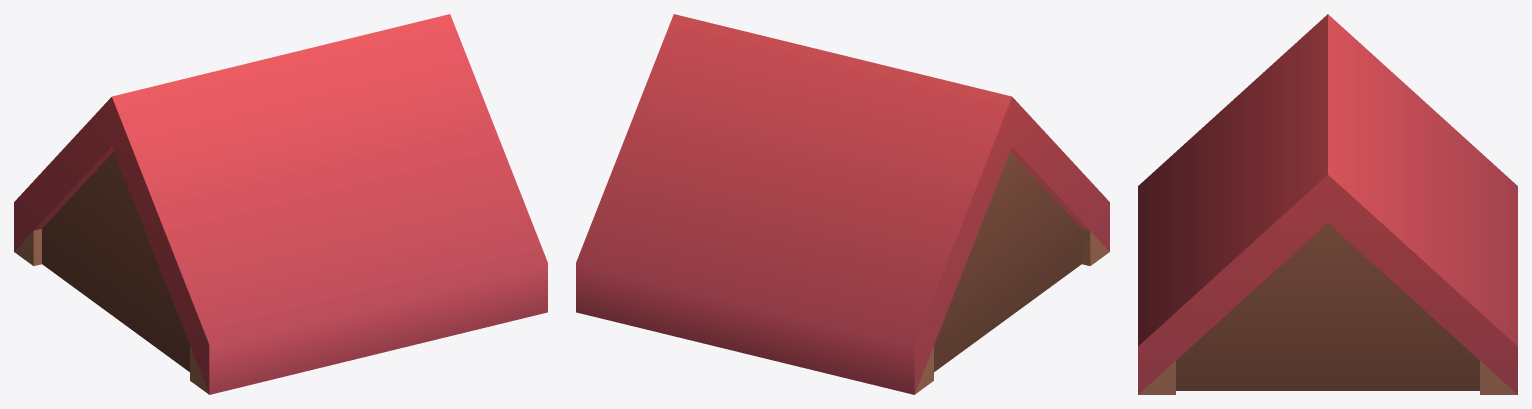
The model's file is roof-high-gable-top.glb.
3 renders of one model, left to right at view 1: azimuth 30°, elevation 25°; view 2: azimuth 150°, elevation 25°; view 3: azimuth 270°, elevation 25°, orthographic. The views are drawn at different scales.
Parts seen in each view (by area): view 1: roof-high-gable-top; view 2: roof-high-gable-top; view 3: roof-high-gable-top.
Boxes of the visible parts, box(x1,y1,x2,y2) form: roof-high-gable-top: box(14, 14, 547, 394); roof-high-gable-top: box(576, 14, 1109, 394); roof-high-gable-top: box(1138, 14, 1517, 394).
Bounding box in the file's own units: 1 × 0.6407 × 1.
1 material, 1 textured.
